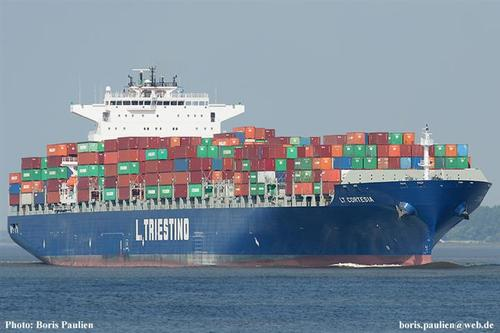Cargoship: (3, 62, 493, 283)
